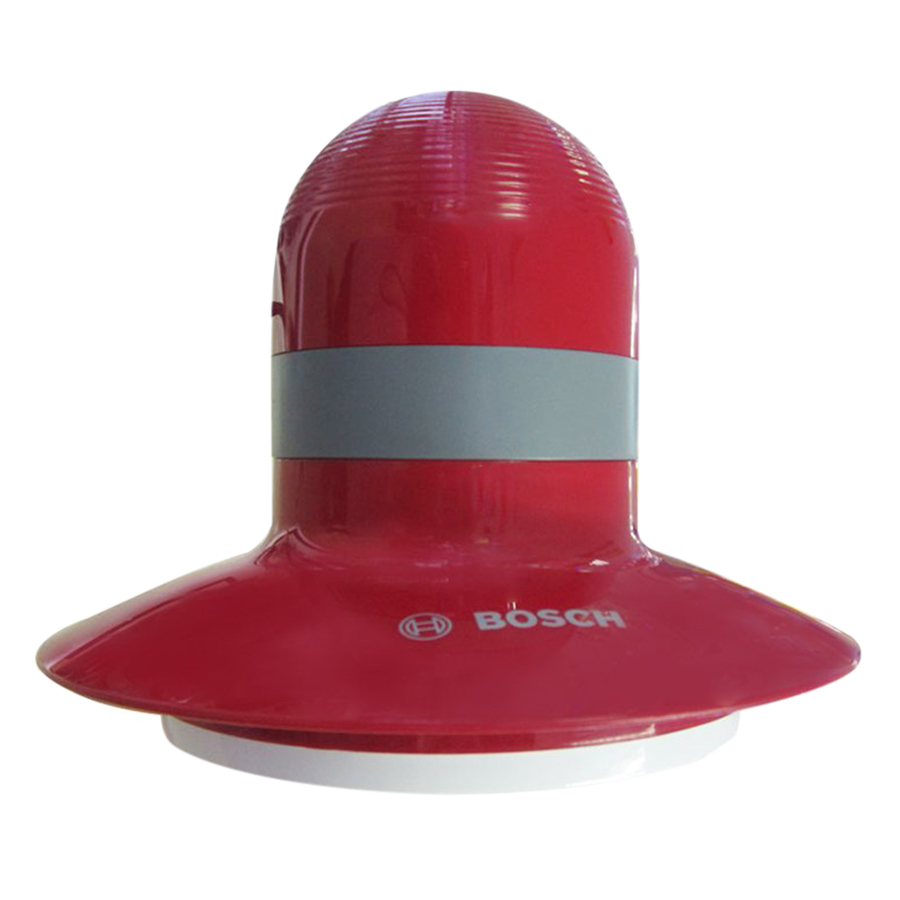Bosch: (467, 602, 629, 643)
